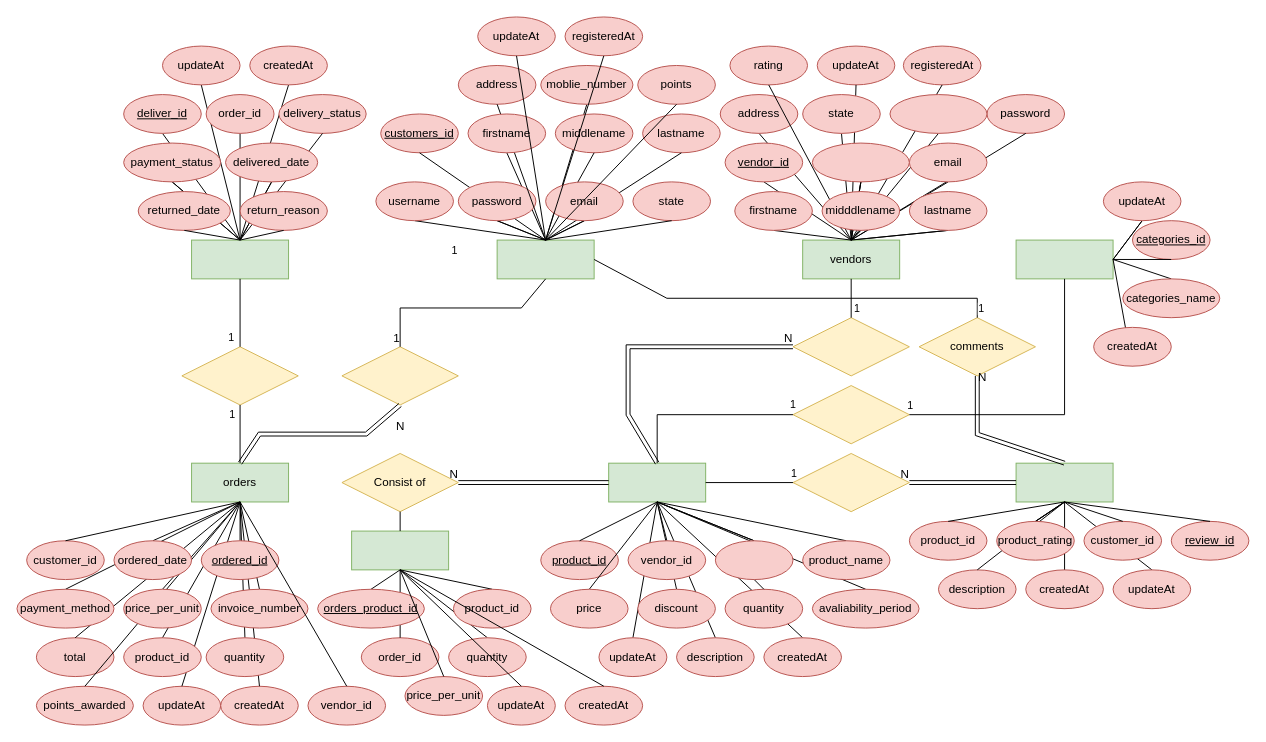
The diagram is 1266 pixels wide and 742 high, and some of its shapes have lost their labels. The box of each missing label's shape, as (x1, y1, x2, y2) in pixels:
catagory_id: (714, 540, 793, 580)
categories: (1015, 239, 1113, 279)
contains: (792, 453, 909, 512)
customers: (496, 239, 594, 279)
deliver_status: (191, 239, 289, 279)
make: (341, 346, 458, 405)
mobile_number: (889, 94, 987, 133)
orders_products: (351, 530, 449, 570)
product_reviews: (1015, 462, 1113, 502)
products: (608, 462, 706, 502)
show: (181, 346, 298, 405)
sort of: (792, 385, 909, 444)
storename: (811, 142, 909, 182)
supply: (792, 317, 909, 376)
